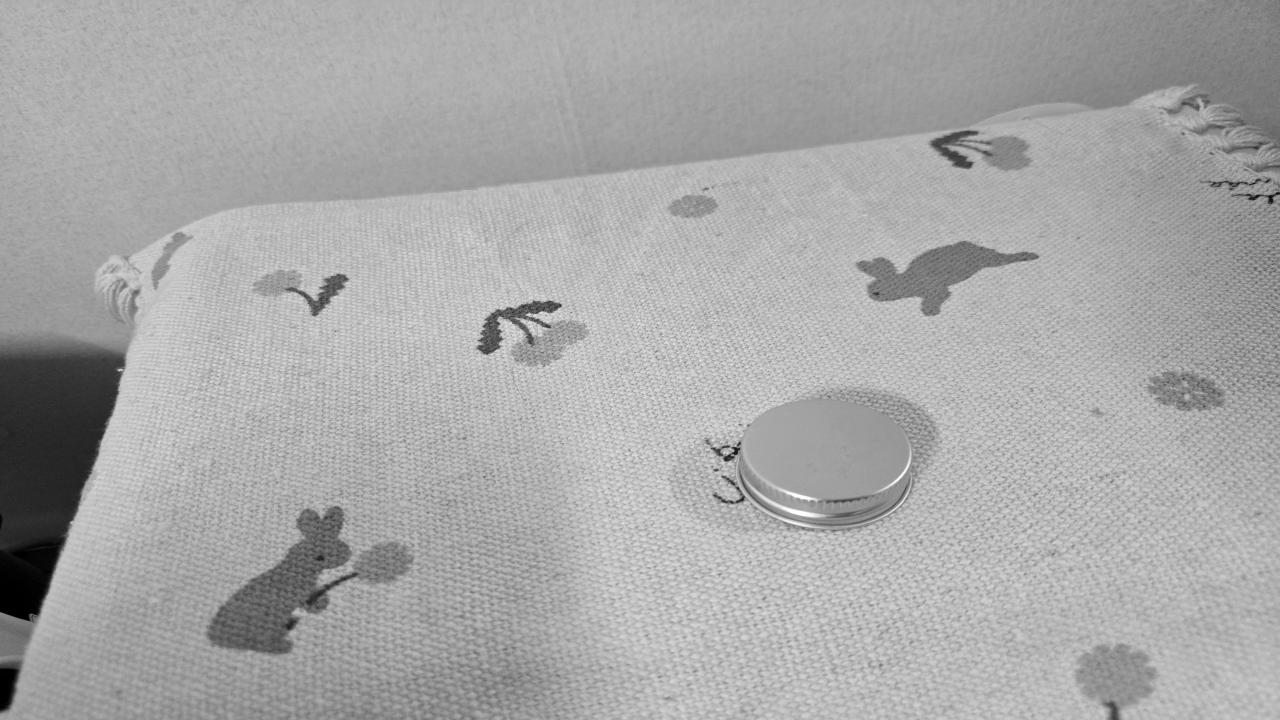bottle_cap: (729, 391, 922, 536)
